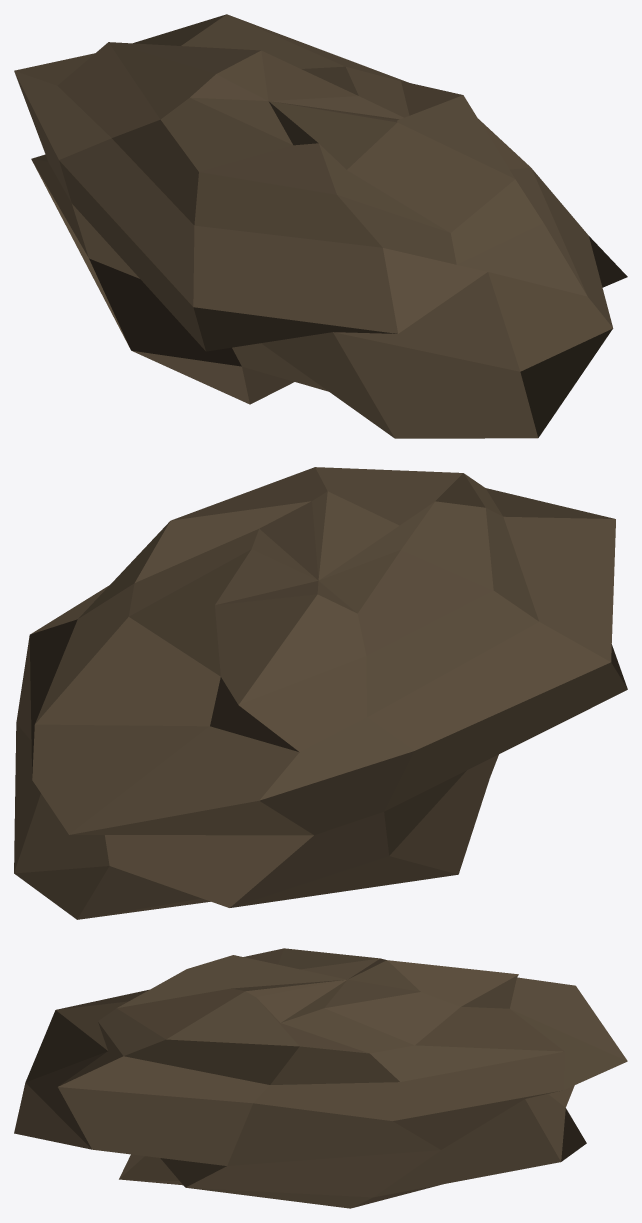
Rendered from asteroid_1.glb.
3 renders of one model, top to bottom at view 1: azimuth 30°, elevation 25°; view 2: azimuth 150°, elevation 25°; view 3: azimuth 270°, elevation 25°, orthographic. The views are drawn at different scales.
Parts seen in each view (by area): view 1: Sphere; view 2: Sphere; view 3: Sphere.
Part boxes in pixels (box(x1,y1,x2,y2)): Sphere: box(14, 14, 627, 438); Sphere: box(14, 467, 627, 919); Sphere: box(14, 948, 627, 1208).
Size of the model in its own units: 2.62 by 1.67 by 4.47.
